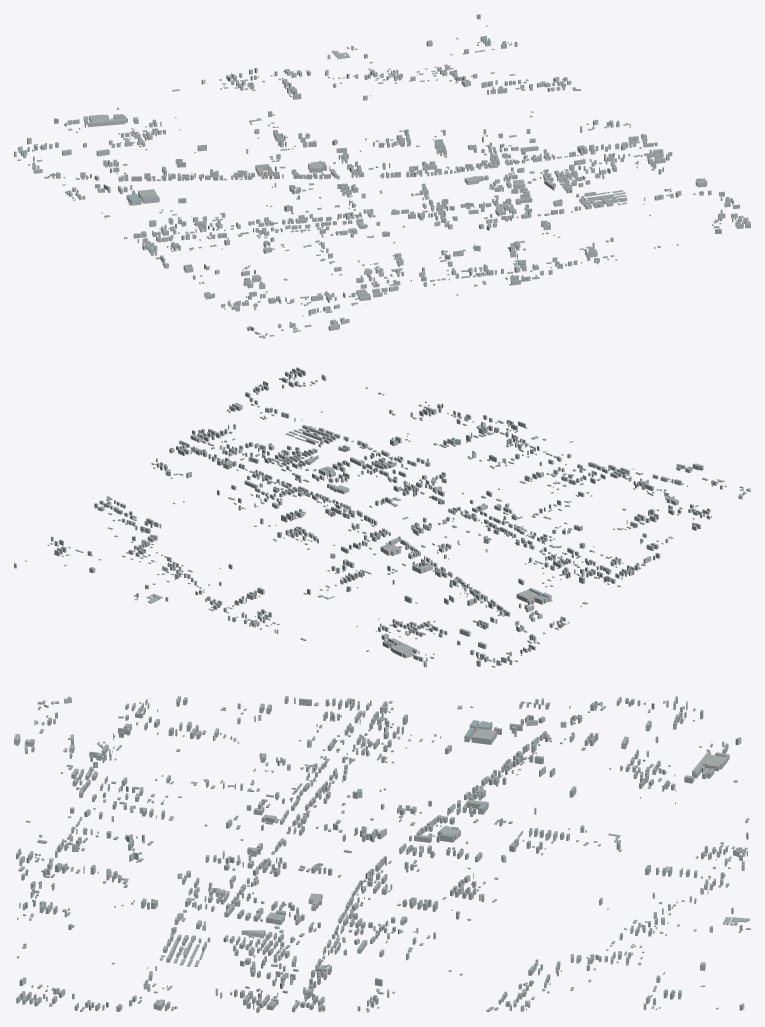
The model's file is far.glb.
3 views of the same model, one above another, from view 1: azimuth 30°, elevation 25°; view 2: azimuth 150°, elevation 25°; view 3: azimuth 270°, elevation 25° (orthographic). The views are drawn at different scales.
Size of the model in its own units: 2104 by 22.6 by 2099.
